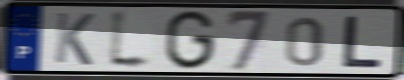0: (283, 15, 330, 68)
7: (225, 8, 273, 73)
G: (163, 8, 218, 72)
K: (52, 10, 97, 68)
L: (106, 7, 156, 73), (339, 14, 385, 70)
